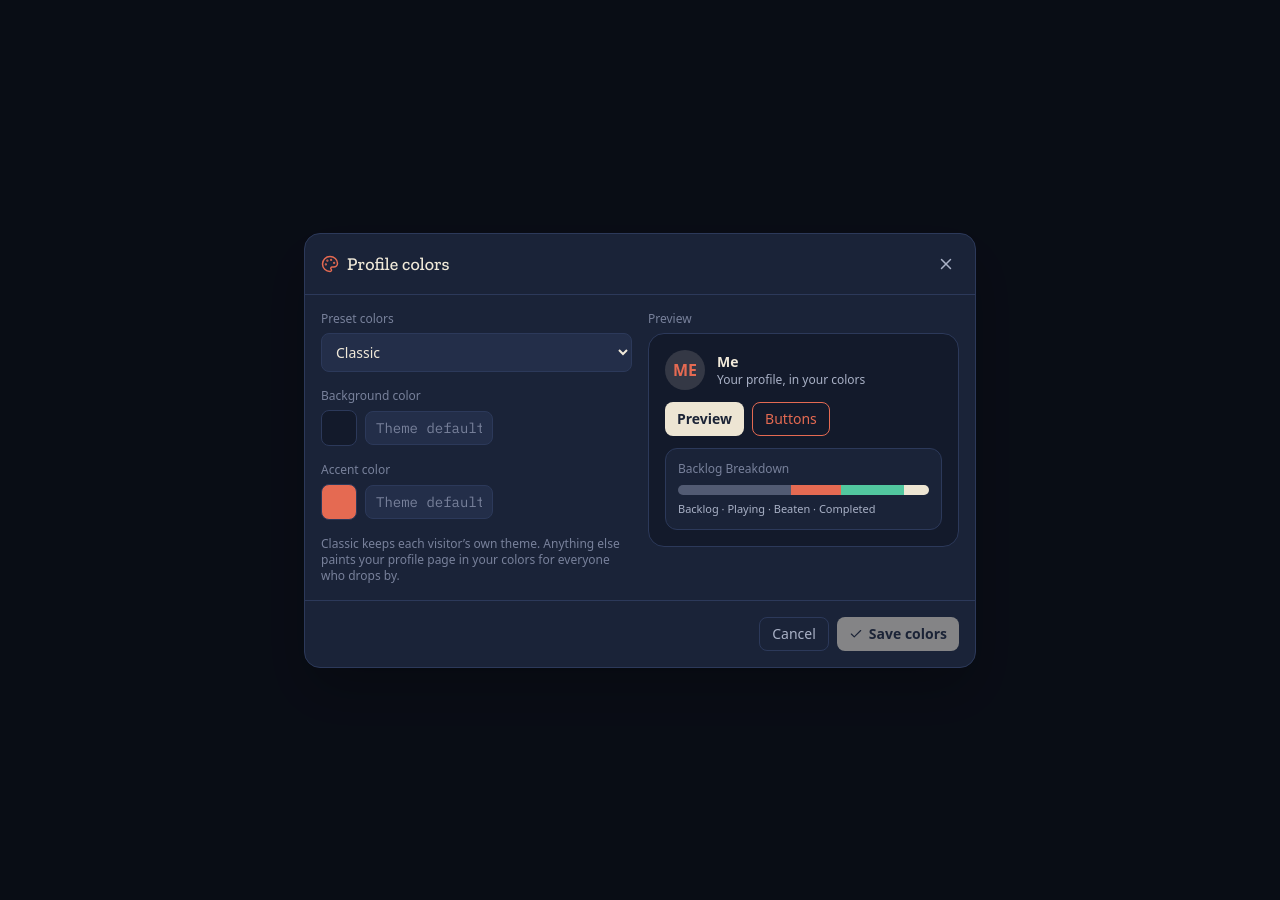
Test case: ProfileColorsModal › the native pickers feed the drafts too
In the colour field named "Accent color picker": (339, 502) 321,484 -> 357,520, type "#f0abfc"
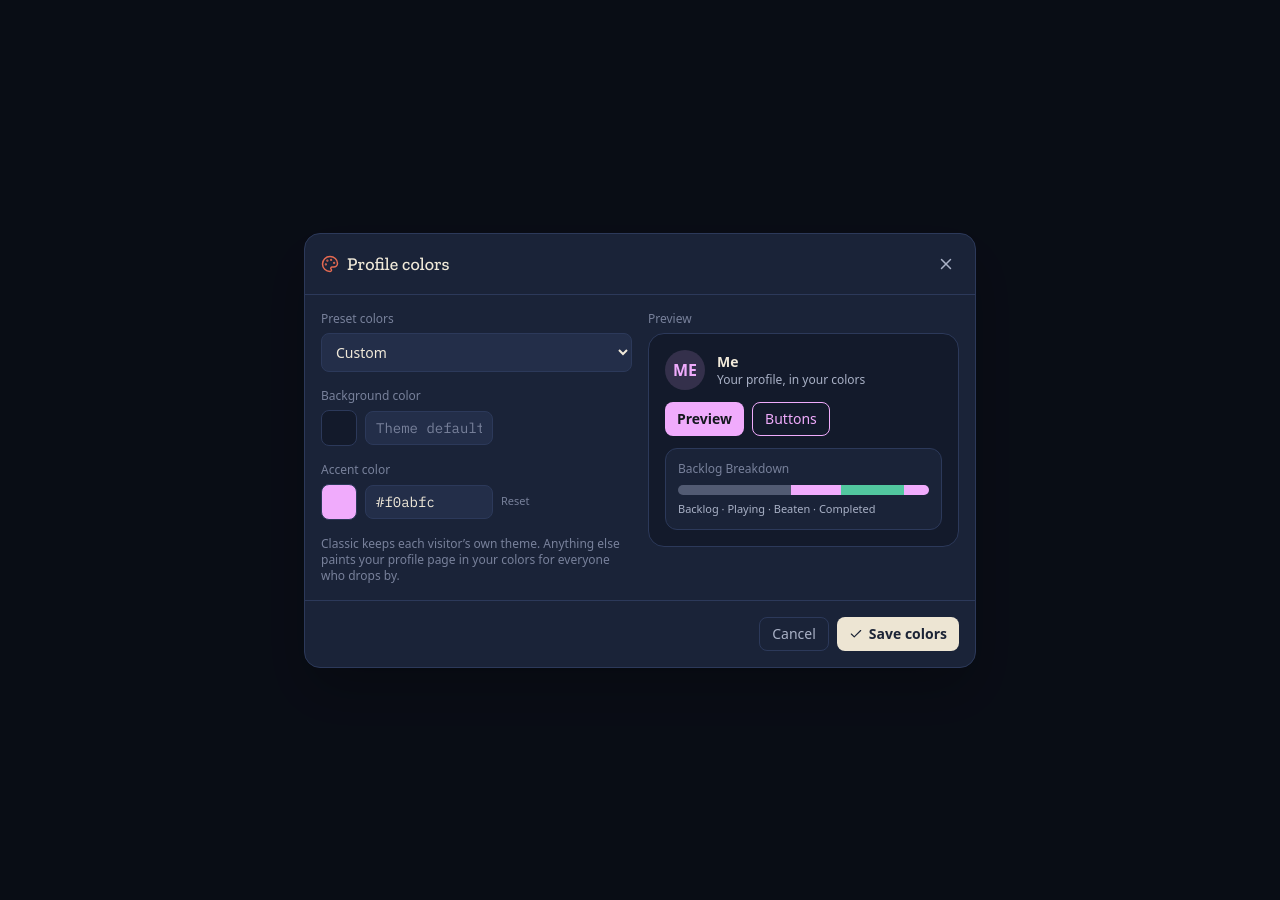
Now the field named "Accent color hex" holds "#f0abfc", box 365,484 -> 493,518
